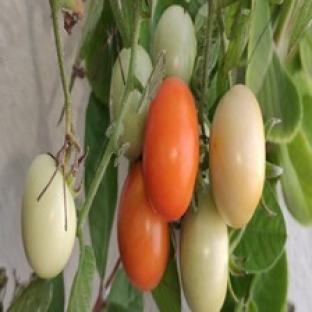Tomato: (144, 77, 199, 221), (209, 85, 264, 228), (21, 155, 76, 278), (117, 163, 169, 291), (180, 189, 228, 311), (154, 5, 196, 83), (120, 90, 147, 160)
